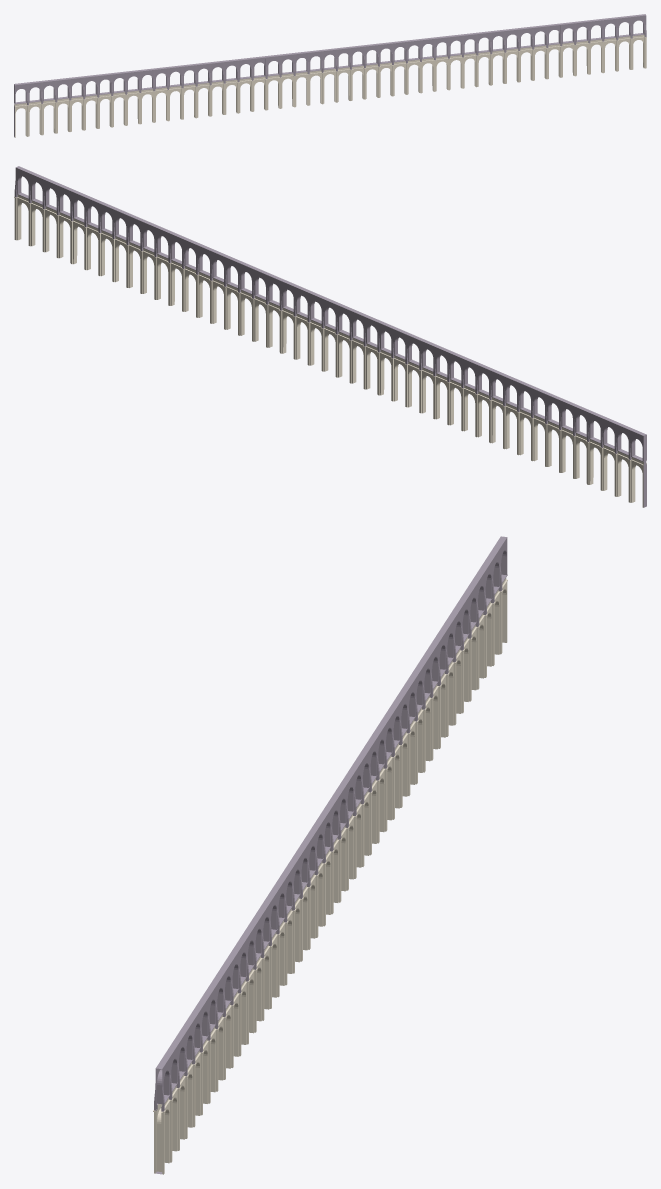
3 renders of one model, top to bottom at view 1: azimuth 30°, elevation 25°; view 2: azimuth 150°, elevation 25°; view 3: azimuth 270°, elevation 25°, orthographic. The views are drawn at different scales.
Visible parts, largest first — view 1: Pont; view 2: Pont; view 3: Pont.
Boxes of the visible parts, x1,y1,x2,y2 form: Pont: [14, 14, 646, 137]; Pont: [14, 166, 646, 507]; Pont: [153, 536, 507, 1174].
Bounding box in the file's own units: 370 × 34 × 104.
